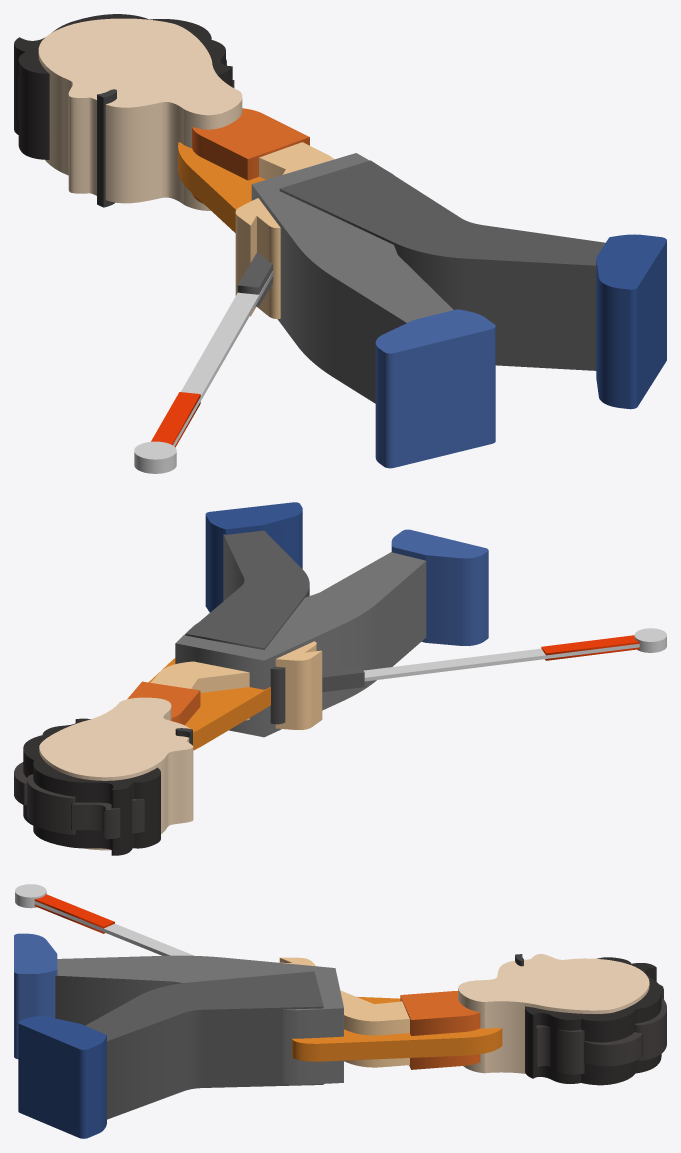
Rendered from emoji_u1f9d1_1f3fb_200d_1f9af.glb.
3 renders of one model, top to bottom at view 1: azimuth 30°, elevation 25°; view 2: azimuth 150°, elevation 25°; view 3: azimuth 270°, elevation 25°, orthographic. The views are drawn at different scales.
Visible parts, largest first — view 1: emoji_u1f9d1_1f3fb_200d_1f9af; view 2: emoji_u1f9d1_1f3fb_200d_1f9af; view 3: emoji_u1f9d1_1f3fb_200d_1f9af.
Boxes of the visible parts, x1,y1,x2,y2 form: emoji_u1f9d1_1f3fb_200d_1f9af: [14, 14, 666, 473]; emoji_u1f9d1_1f3fb_200d_1f9af: [14, 502, 666, 855]; emoji_u1f9d1_1f3fb_200d_1f9af: [14, 884, 666, 1138].
Bounding box in the file's own units: 0.0247 × 0.005 × 0.0333.
